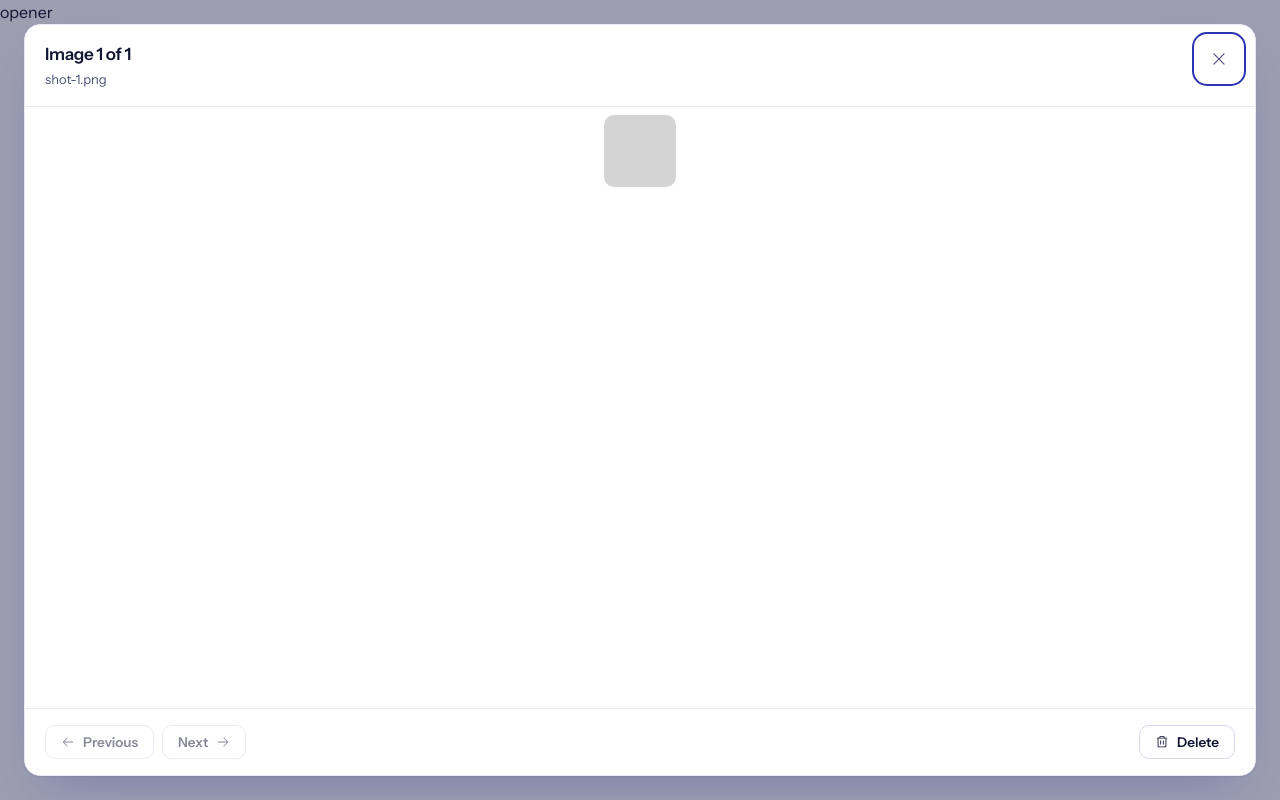
Test case: deleting the last image does not make the dialog say "Image 1 of 0" while it fades out
Click the button "Delete": (1187, 742) [1139, 725, 1235, 759]
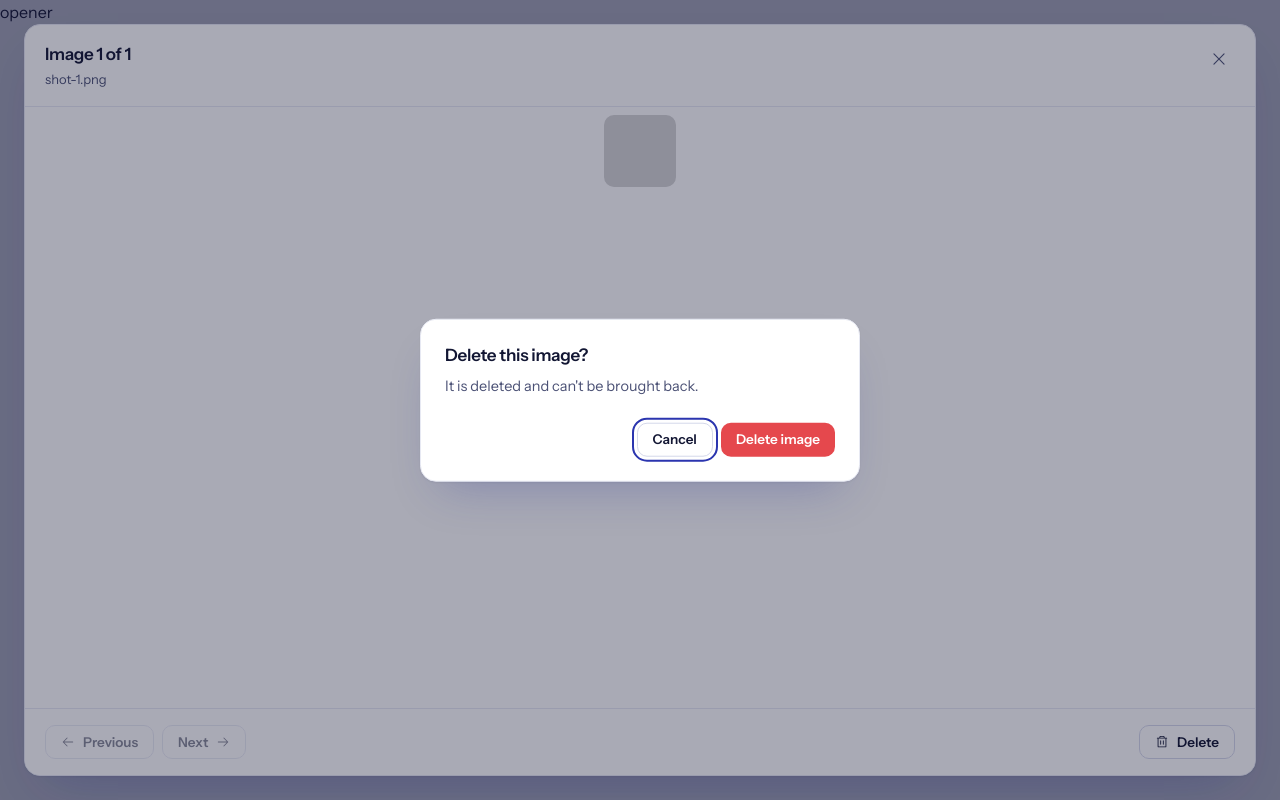
Click the button "Delete image": (778, 439) [721, 422, 835, 456]
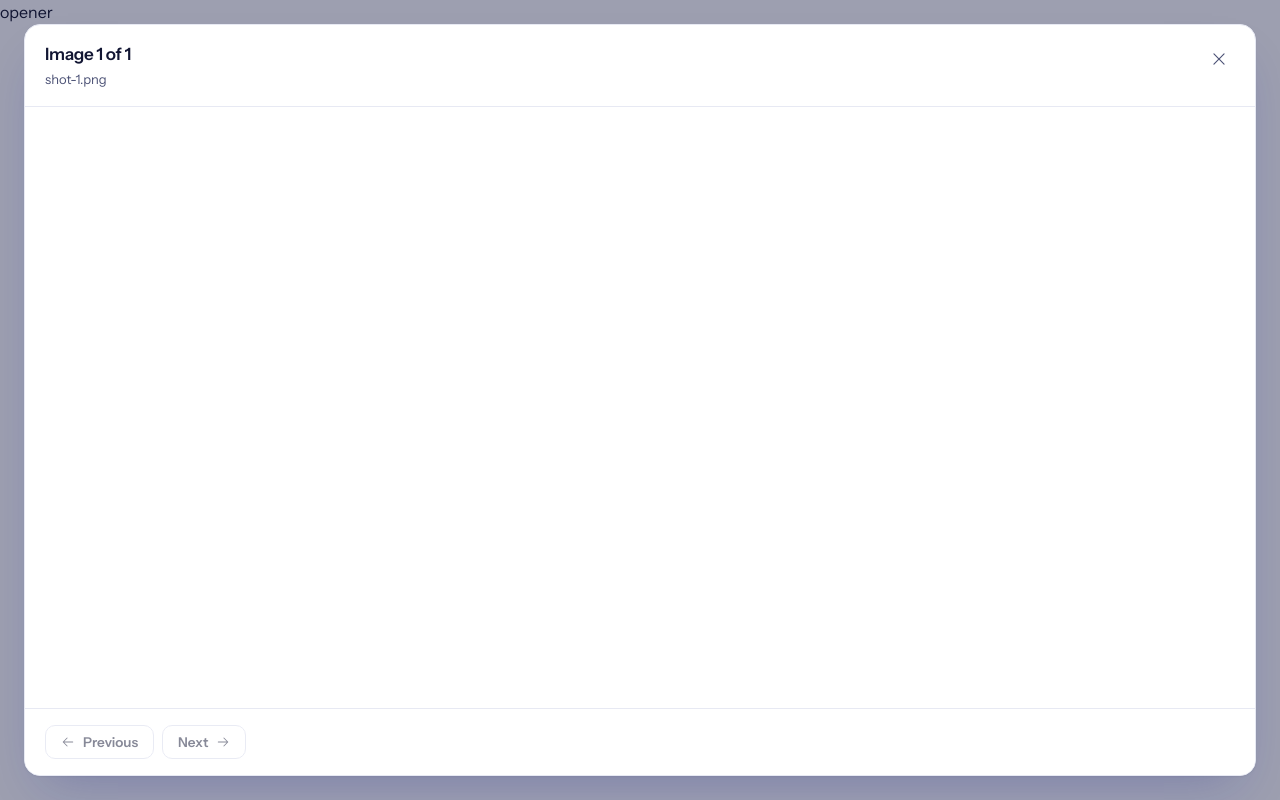
Expected: the dialog "Image 1 of 1" shows "shot-1.png", [45, 71, 107, 87]
Now the heading "Delete this image?" is gone
